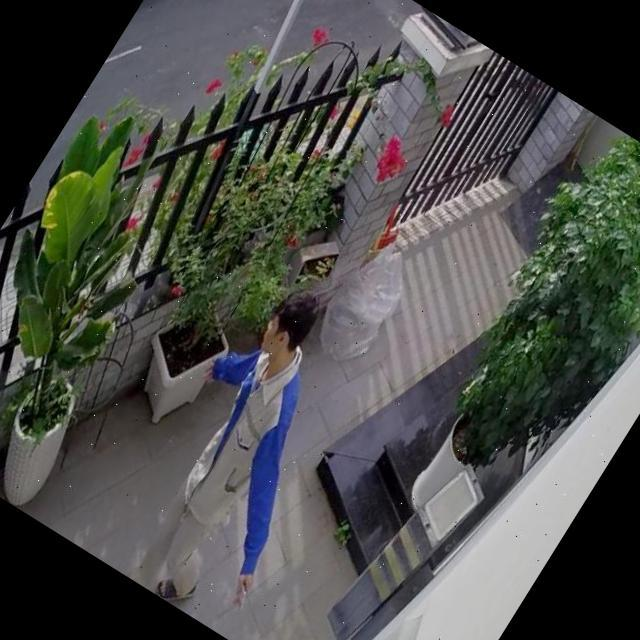person: (93, 266, 400, 634)
